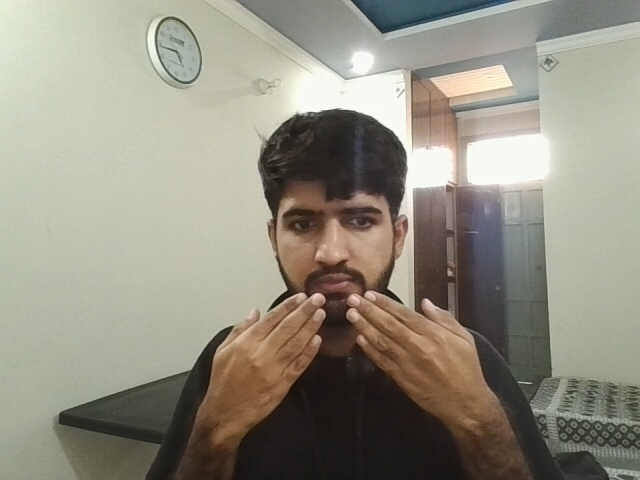Thanks: (174, 281, 522, 438)
